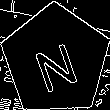N_N: (29, 29, 82, 91)
